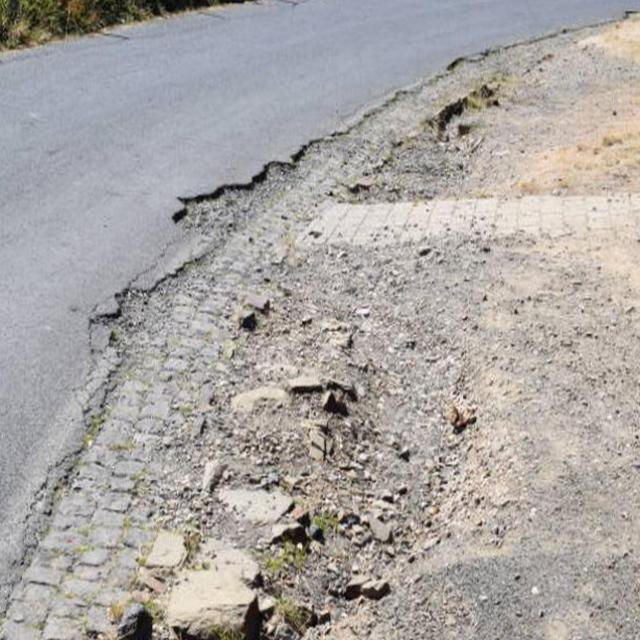Pinggir: (0, 13, 622, 640)
